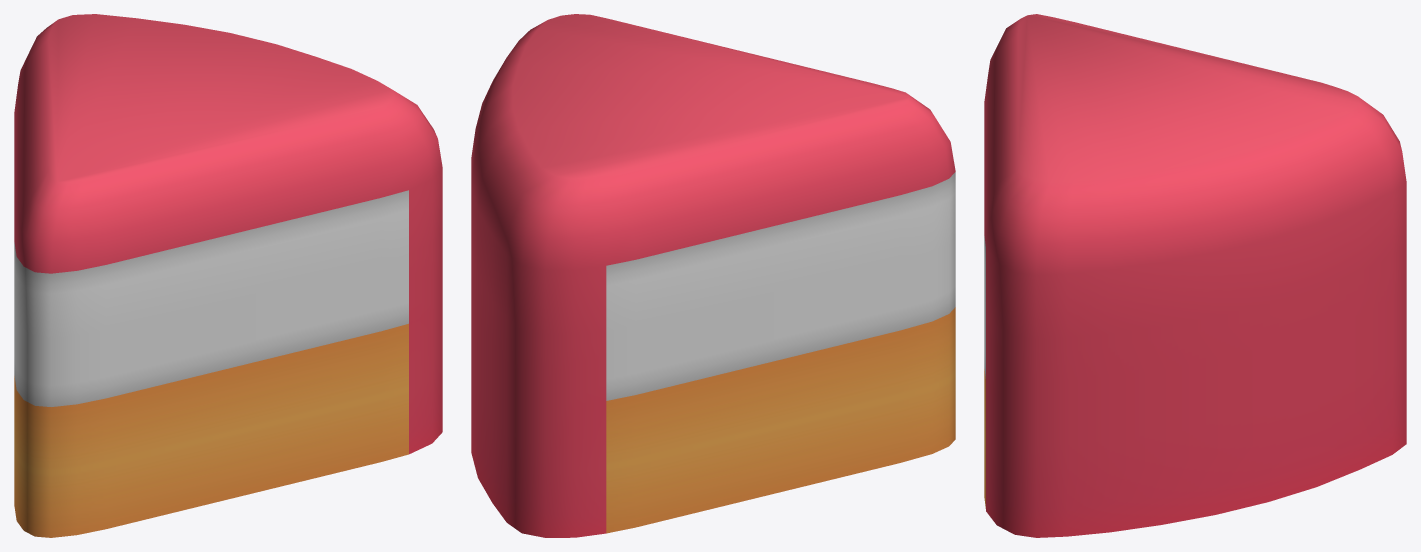
File: cake07_slice.FBX
The picture shows the model from 3 angles, left to right: view 1: azimuth 30°, elevation 25°; view 2: azimuth 150°, elevation 25°; view 3: azimuth 270°, elevation 25°; orthographic projection.
Parts seen in each view (by area): view 1: cake07_slice; view 2: cake07_slice; view 3: cake07_slice.
Boxes of the visible parts, bbox=[...] form: cake07_slice: bbox=[14, 14, 442, 537]; cake07_slice: bbox=[471, 14, 955, 537]; cake07_slice: bbox=[984, 14, 1406, 537].
Size of the model in its own units: 0.00904 by 0.00692 by 0.00788.
